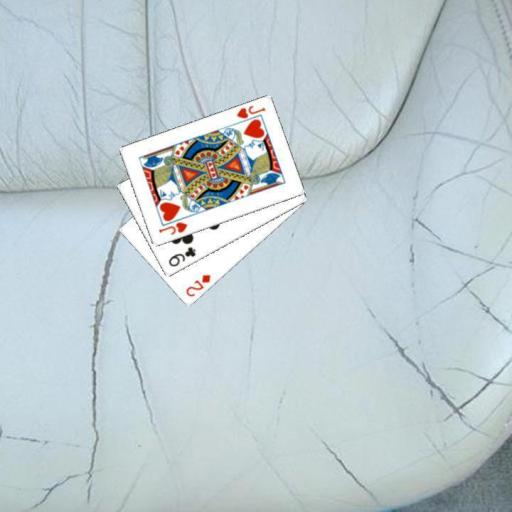card-corner: (165, 244, 197, 269), (183, 272, 212, 298), (233, 102, 267, 120), (156, 219, 188, 237)
